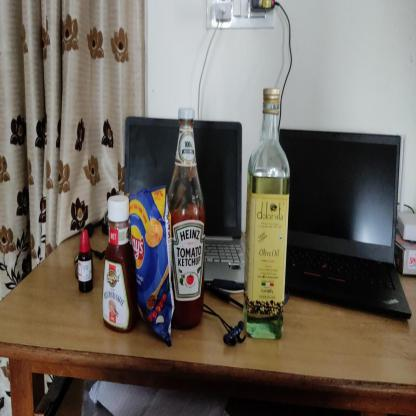indian_magic_masala: (127, 187, 174, 347)
